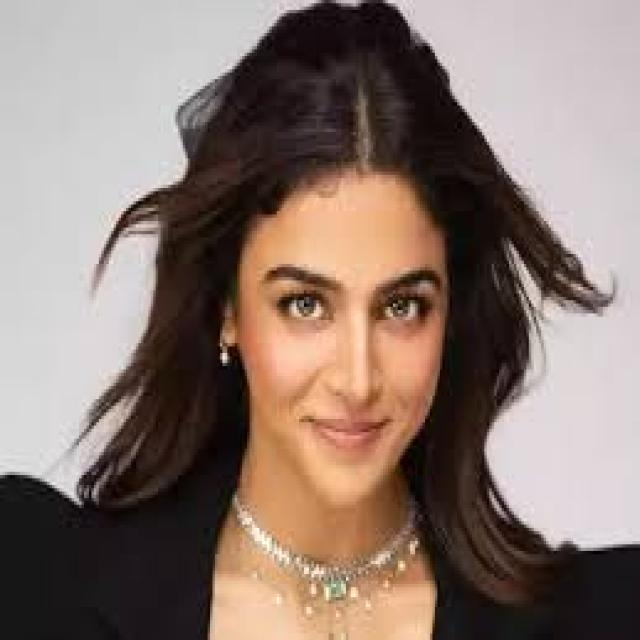low: (279, 310, 333, 340), (373, 320, 421, 334)
